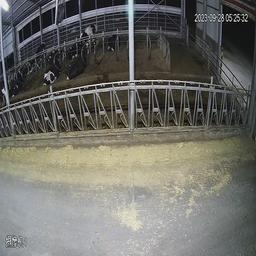cow: (64, 49, 90, 91), (39, 54, 62, 91), (79, 18, 100, 55), (7, 65, 24, 97), (106, 27, 122, 60), (32, 36, 45, 64)
